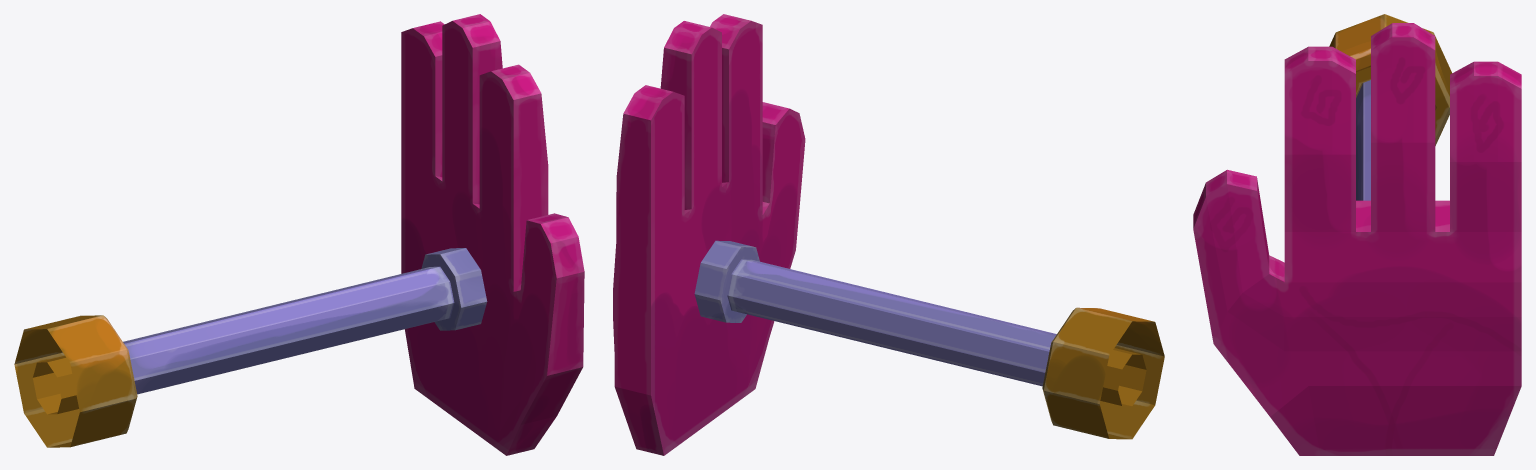
Rendered from PushHand.fbx.
The picture shows the model from 3 angles, left to right: view 1: azimuth 30°, elevation 25°; view 2: azimuth 150°, elevation 25°; view 3: azimuth 270°, elevation 25°; orthographic projection. The views are drawn at different scales.
Parts seen in each view (by area): view 1: Cube.003, Cylinder.001; view 2: Cube.003, Cylinder.001; view 3: Cube.003, Cylinder.001.
Part boxes in pixels (box(x1,y1,x2,y2)): Cube.003: box(123, 14, 584, 455); Cylinder.001: box(14, 315, 137, 447); Cube.003: box(613, 14, 1056, 455); Cylinder.001: box(1042, 307, 1164, 439); Cube.003: box(1193, 23, 1521, 455); Cylinder.001: box(1329, 14, 1451, 145).
Bounding box in the file's own units: 224 × 185 × 132.
